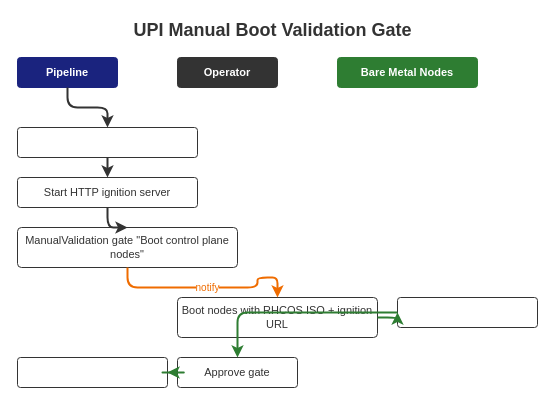
Some shapes in this 555 by 405 pixel diagram are drawn without their labels. Each missing label, with the centre of its shape:
"Continue with compute nodes" goes at [92,372].
"Generate ignition configs" goes at [107,142].
"Install RHCOS" goes at [467,312].
